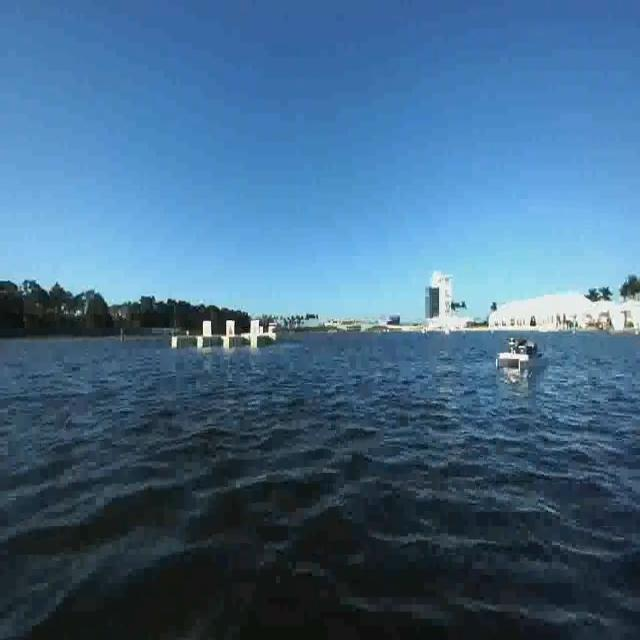red-dot: (226, 320, 235, 339)
